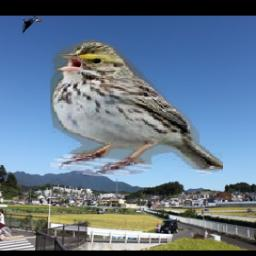Sparrow: (50, 37, 223, 177)
Woodpecker: (22, 16, 42, 34)
